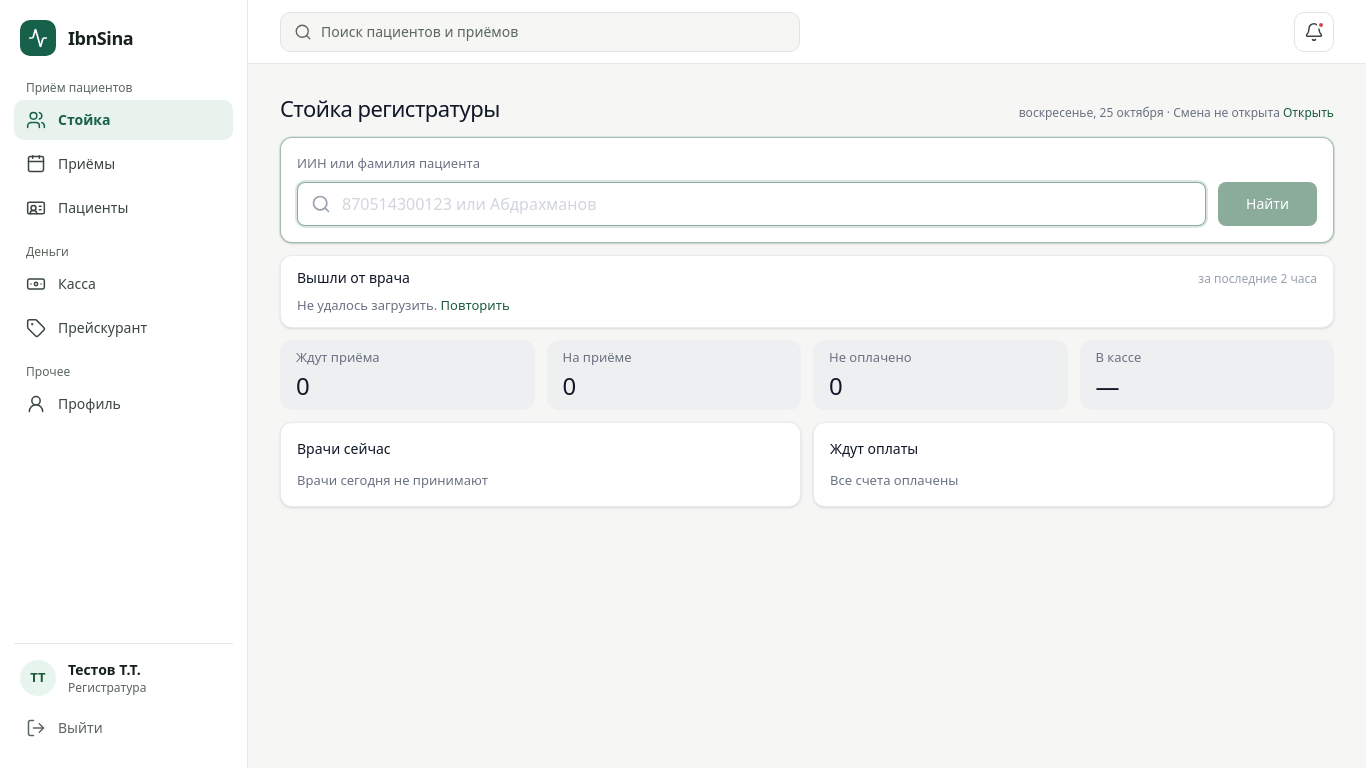
Test: запись прямо со стойки › под датой показана очередь врача: сколько ждёт и какой номер получит пациент
Step 1. Type "870514300123" into the field labelled "ИИН или фамилия пациента" → [752, 204], box [297, 182, 1206, 226]
Then press Enter
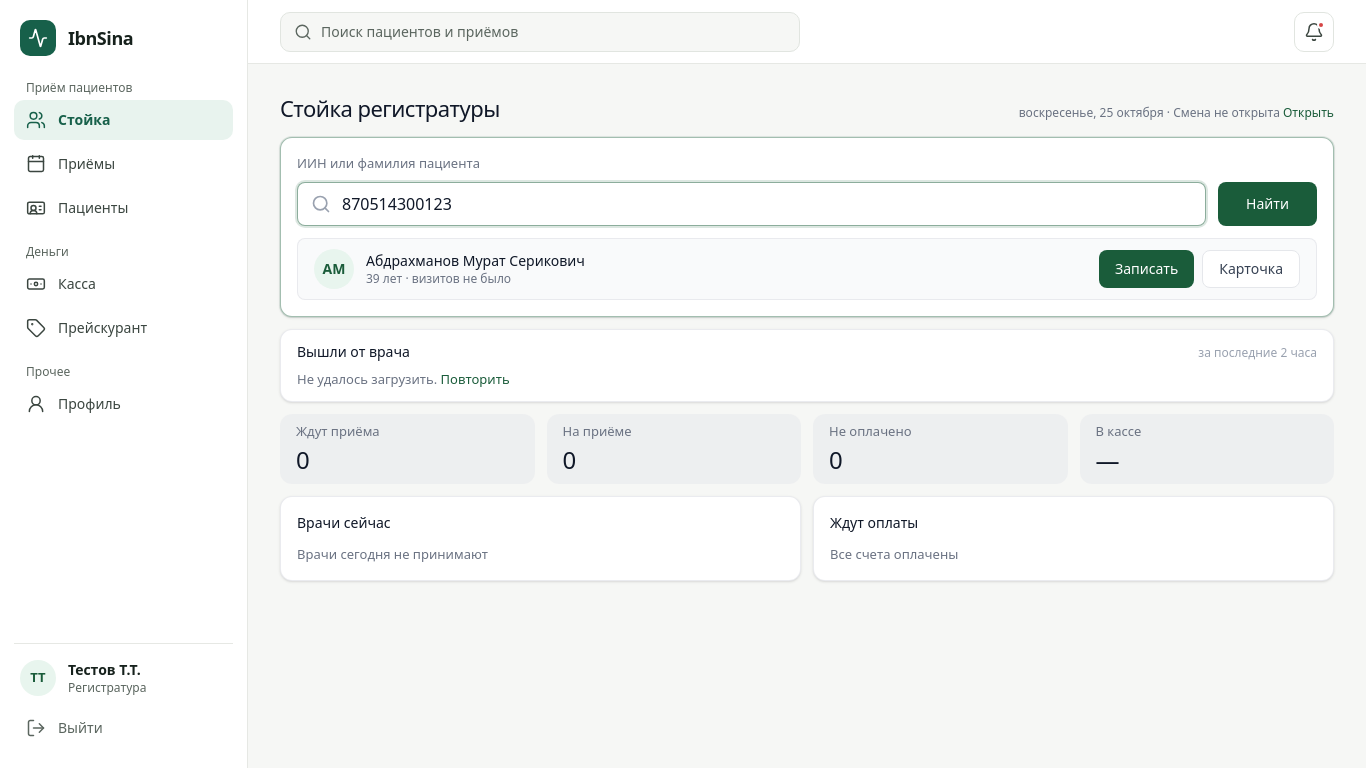
Expected: the text "Абдрахманов Мурат Серикович" is shown, [366, 250, 585, 270]
Step 2. Click the button "Записать" → [1147, 268], box [1099, 250, 1194, 288]
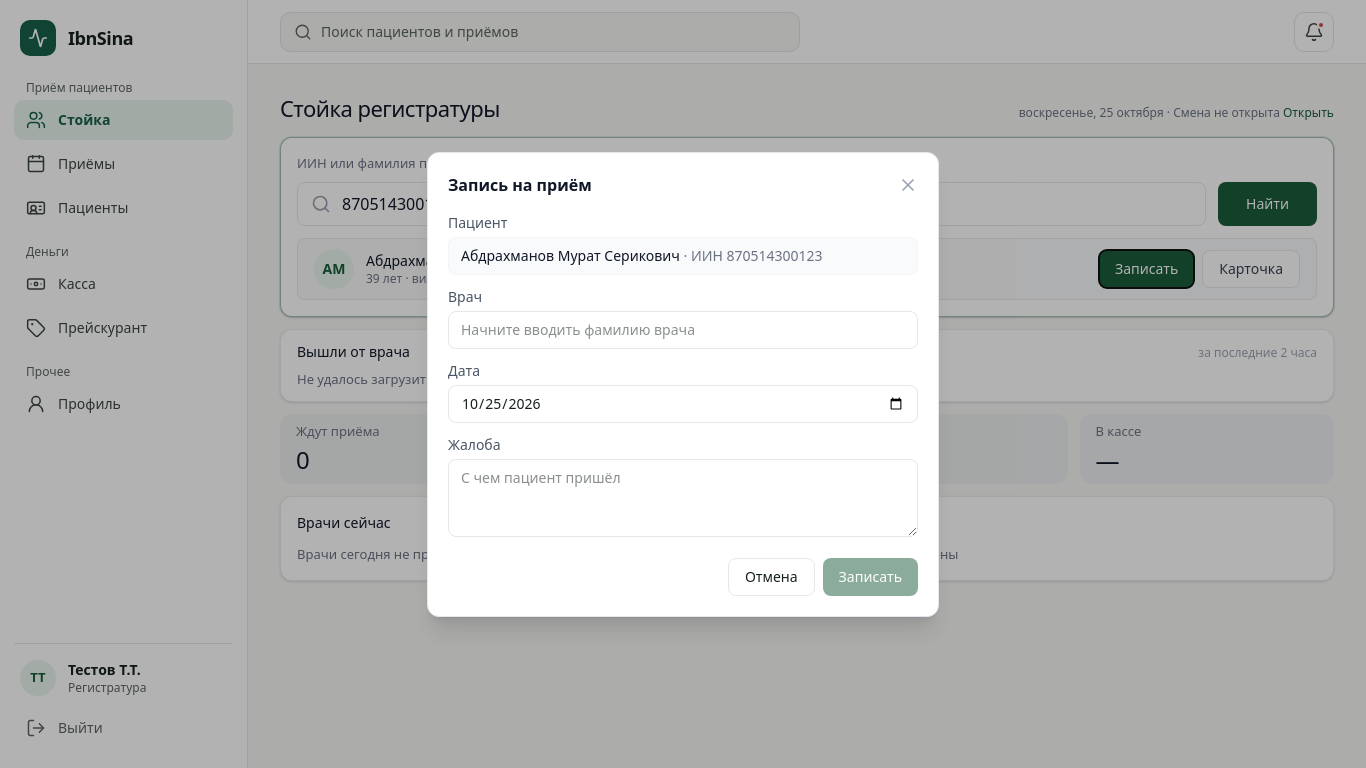
Step 3. Type "Сери" into the field with placeholder "Начните вводить фамилию врача" → [683, 330], box [448, 310, 918, 348]
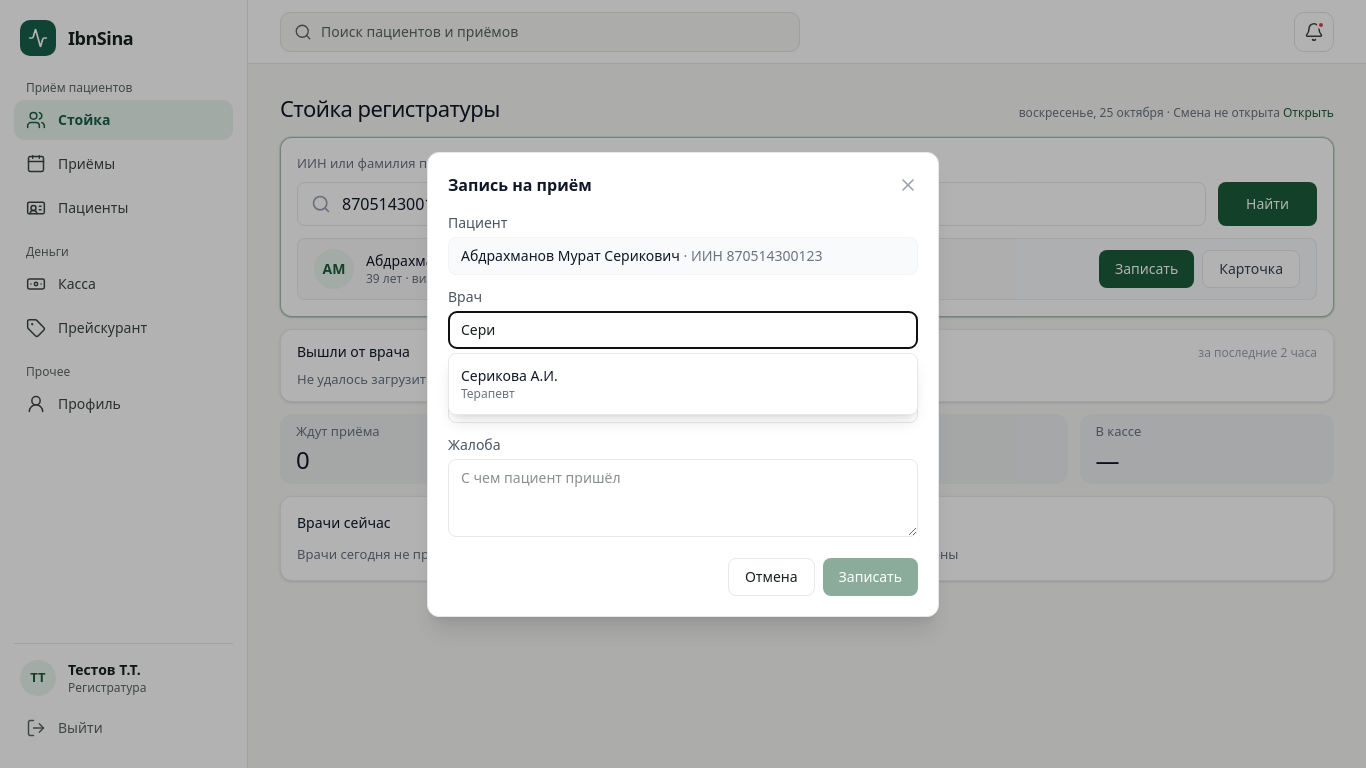
Step 4. Click the text "Серикова А.И." → [509, 376], box [461, 366, 558, 386]
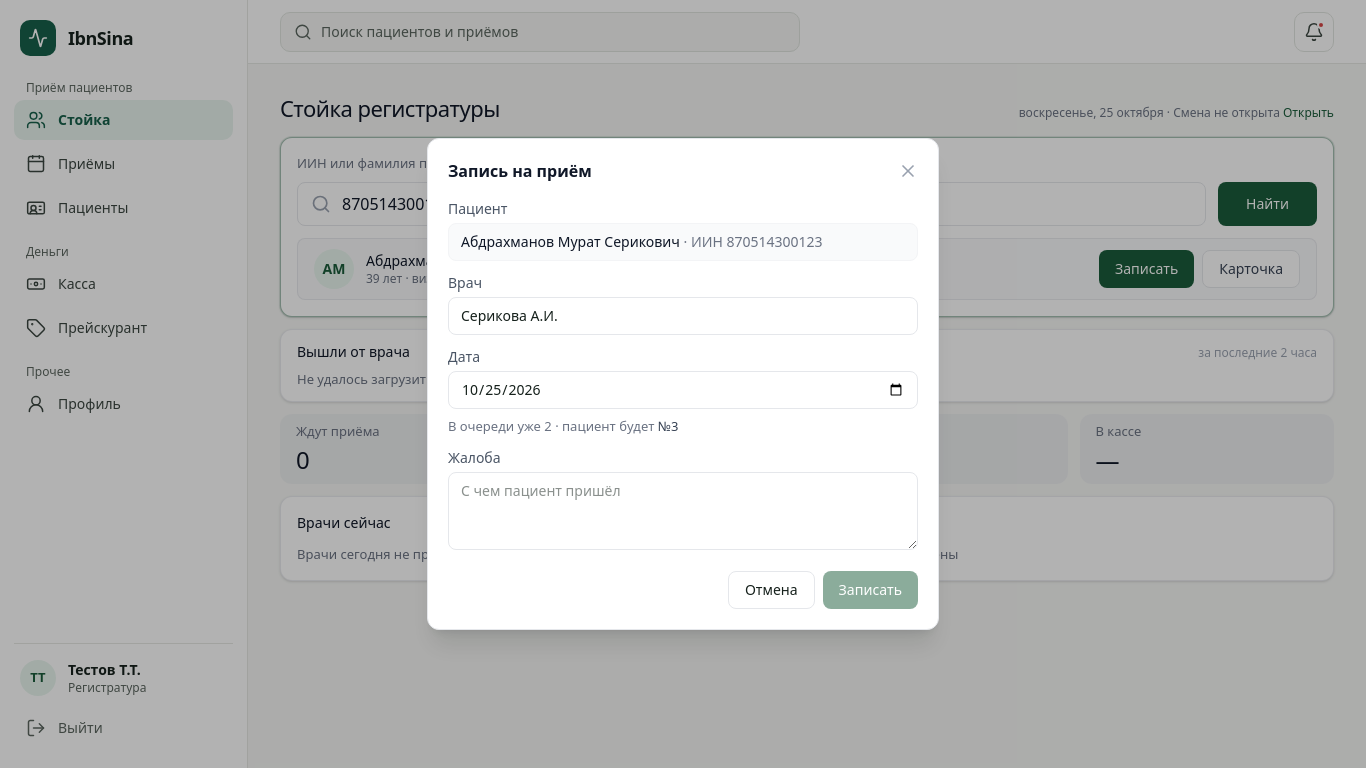
Expected: the field showing "Серикова А.И." is shown, [448, 297, 918, 335]
Expected: the text "В очереди уже 2 · пациент будет №3" is shown, [448, 417, 678, 435]
Expected: the text "№3" is shown, [658, 417, 678, 435]
